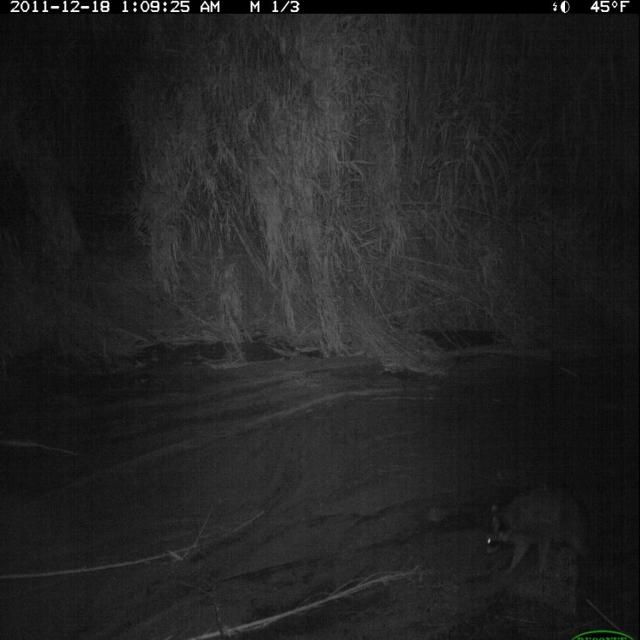raccoon: (475, 473, 607, 579)
